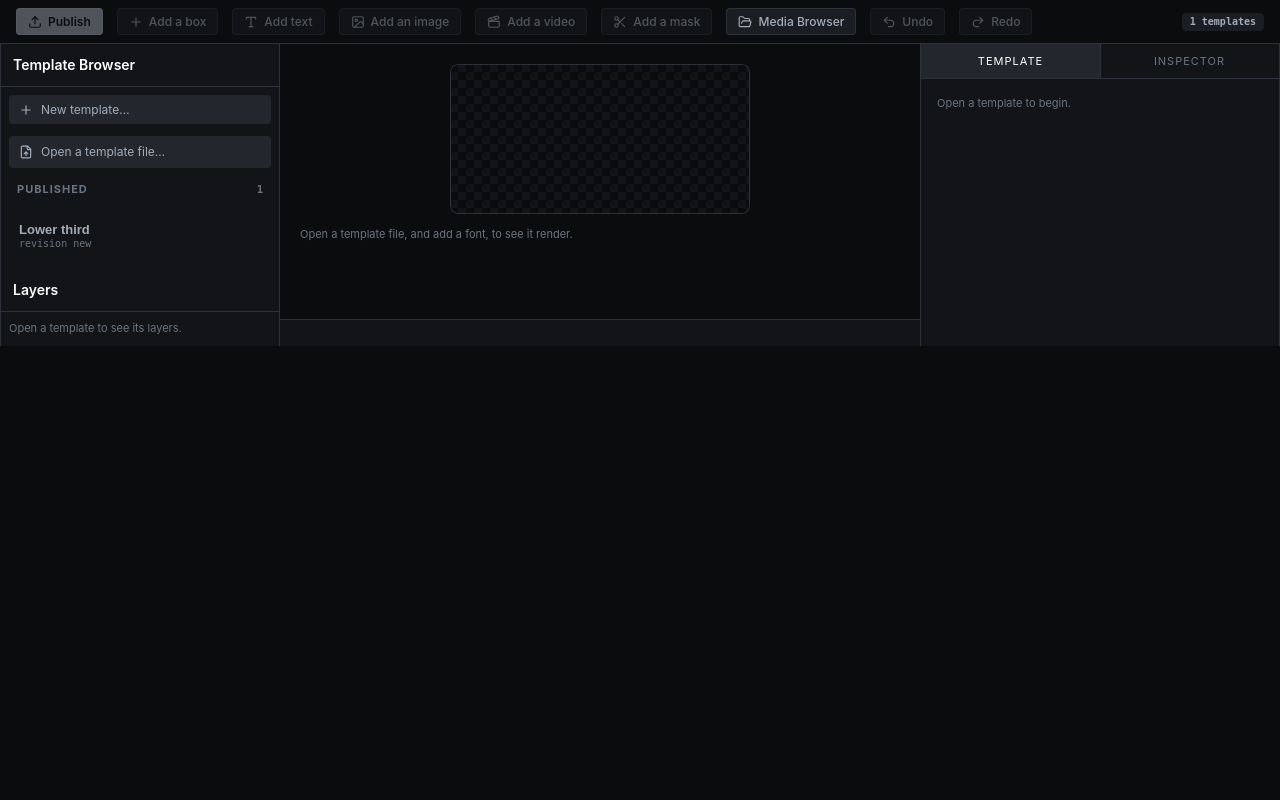
Test: revisions › stale Items are named, the diff is sentences, and verdicts come back per Item
Click the text "Lower third".
click(54, 230)  # box [19,222,90,237]
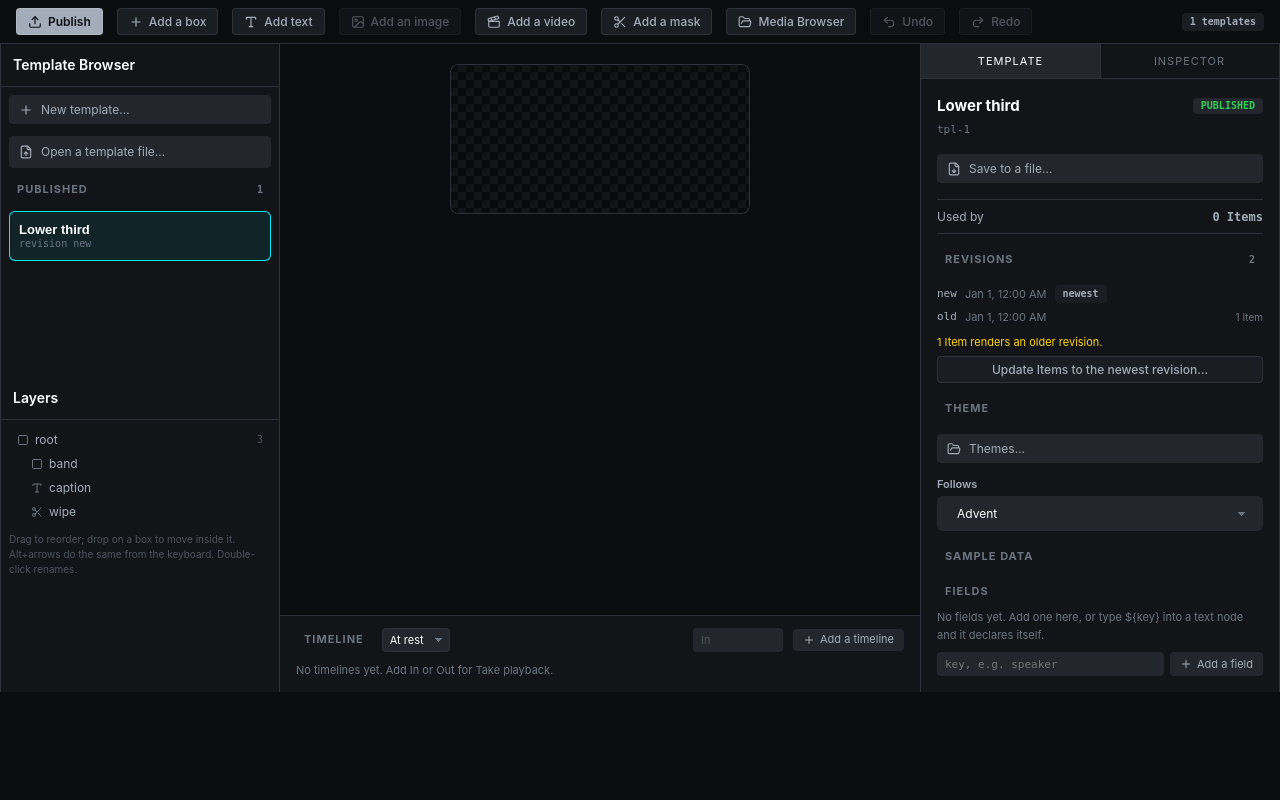
Check: the text "1 Item renders an older revision." is shown, box [937,334,1102,348]
Click the button "Update Items to the newest revision…".
click(1100, 370)  # box [937,356,1263,383]
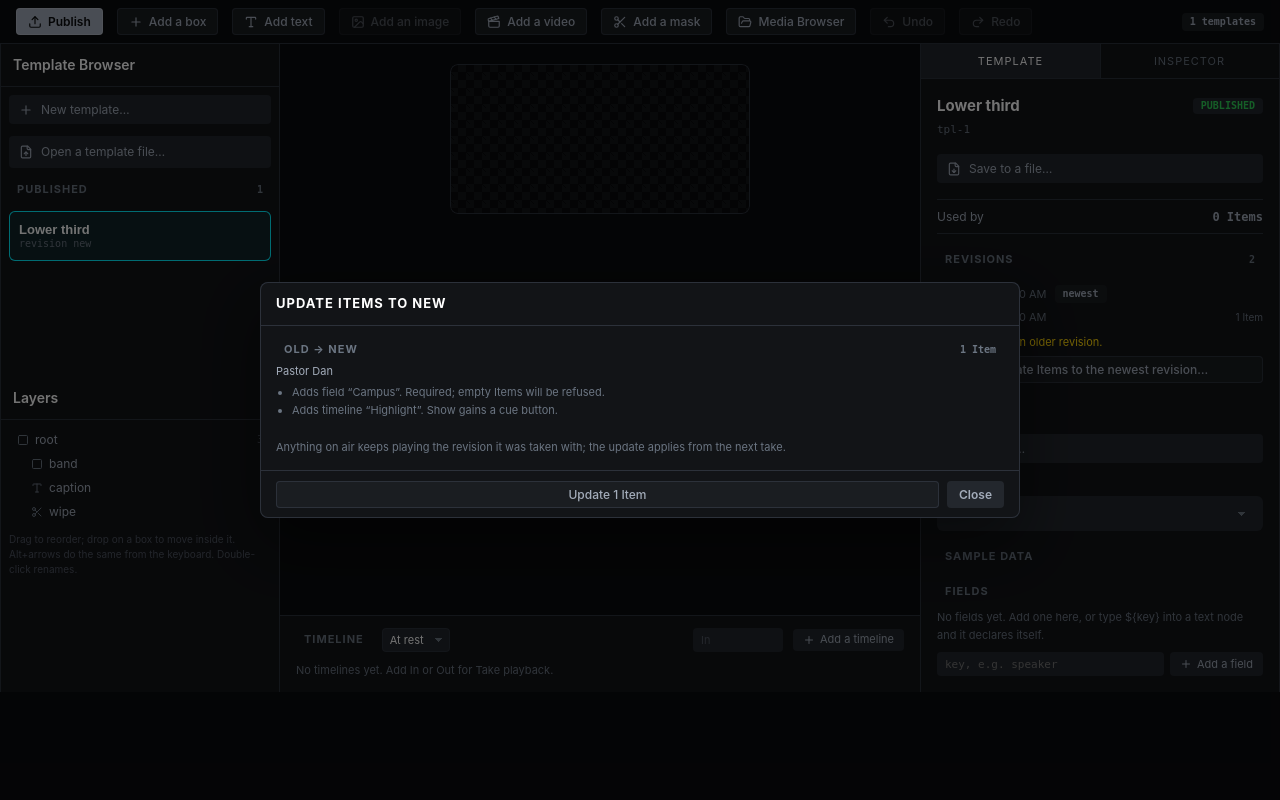
Check: the list item "Adds field “Campus”. Required; empty Items will be refused." is shown, box [292,385,605,399]
Check: the list item "Adds timeline “Highlight”. Show gains a cue button." is shown, box [292,403,558,417]
Check: the text "Pastor Dan" is shown, box [276,364,333,378]
Click the button "Update 1 Item".
click(608, 495)  # box [276,481,939,508]
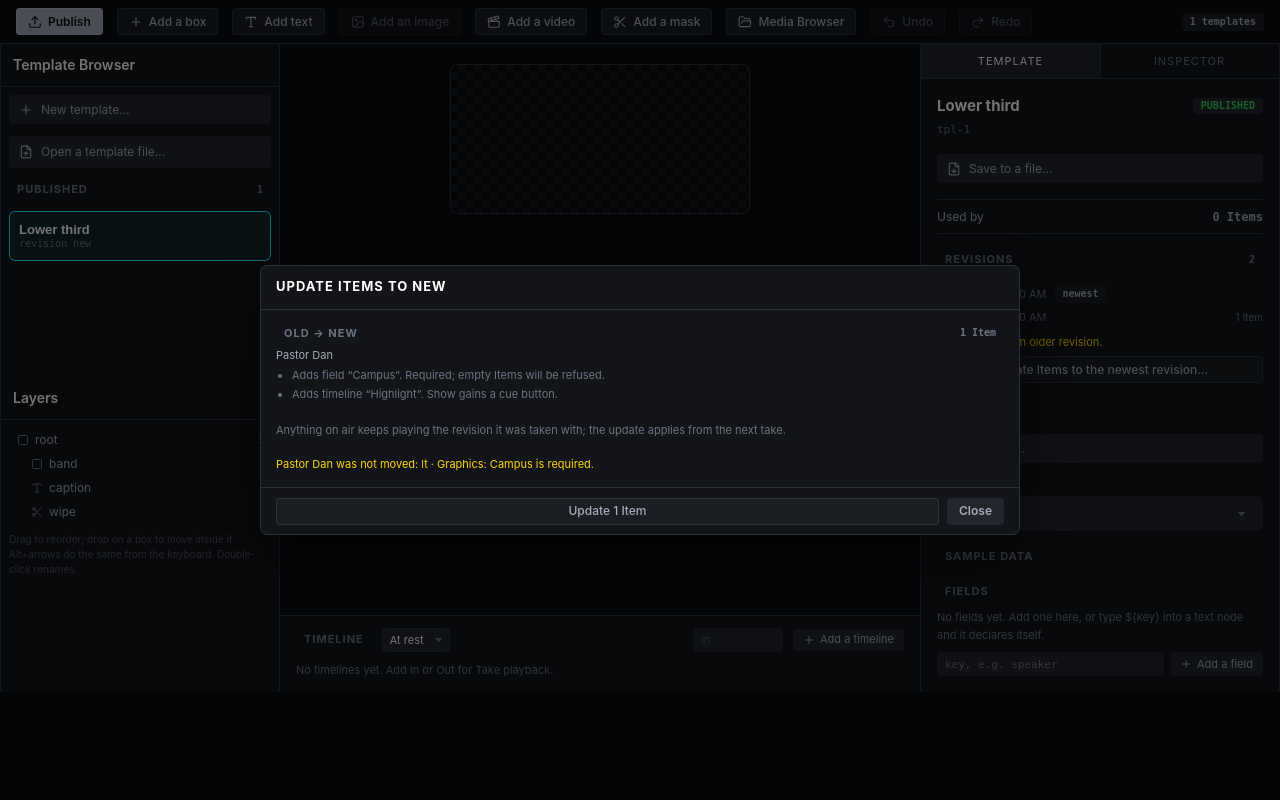
Check: the text "Pastor Dan was not moved: lt · Graphics: Campus is required." is shown, box [276,457,594,471]
